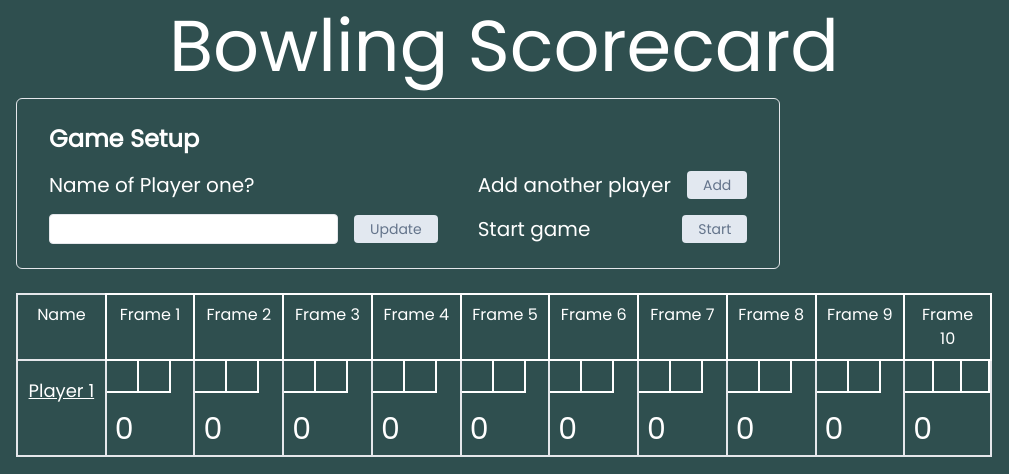
Scenario: Single player tests › Bowl box score interactions only › a forward slash should show in the UI to represent a spare
The width and height of the screenshot is (1009, 474).
Click the button with test id "start-game-btn" at point(715, 229), box [682,215,747,243]
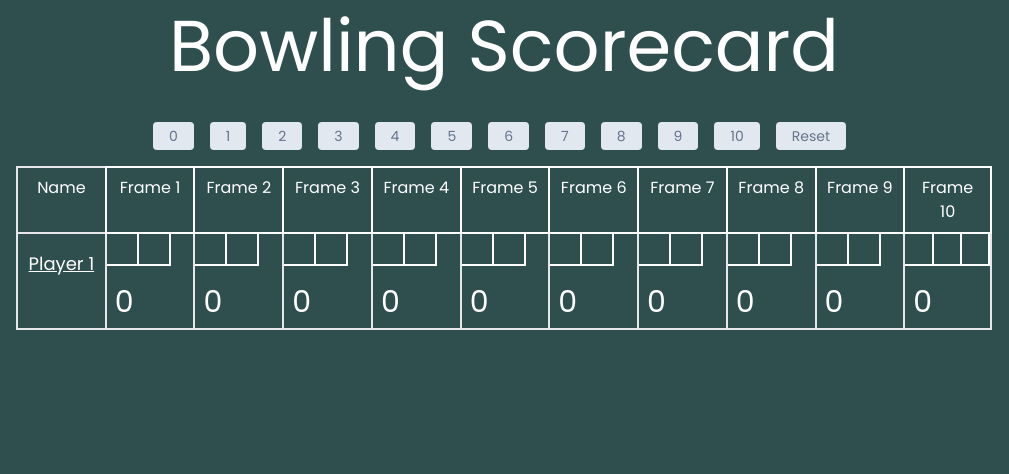
Click the button with test id "button-6" at point(509, 136), box [488,122,529,150]
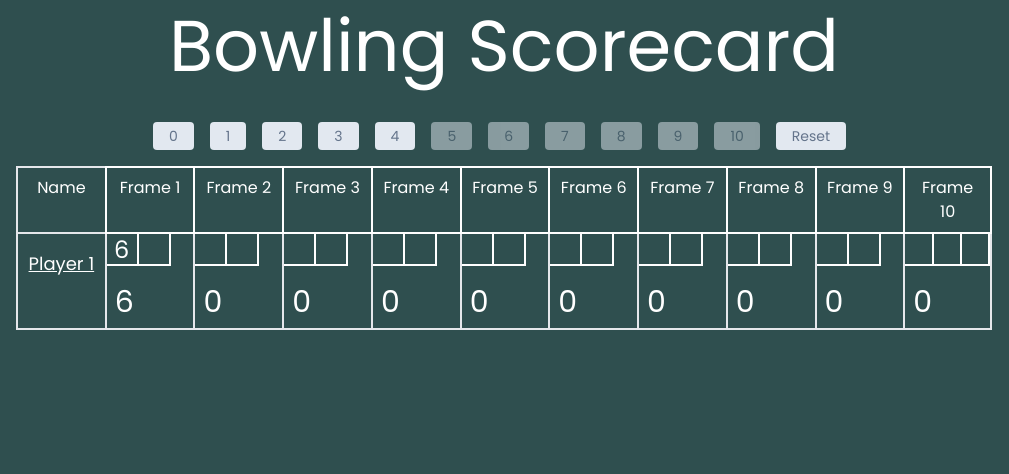
Expected: the text with test id "player-1-frame-1-first-bowl" reads "6", [107,234,139,266]
Click the button with test id "button-4" at point(396, 136), box [375,122,416,150]
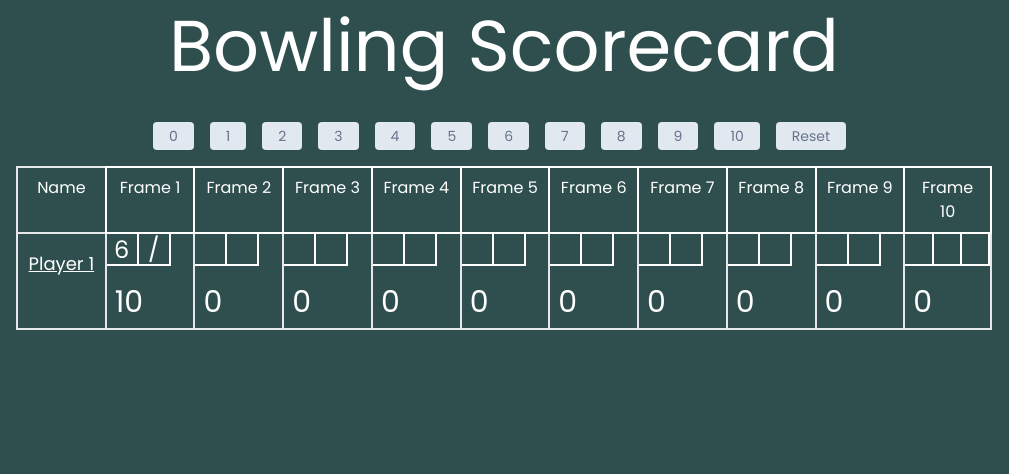
Expected: the text with test id "player-1-frame-1-second-bowl" reads "/", [139,234,171,266]
Click the button with test id "button-0" at point(174, 136), box [153,122,194,150]
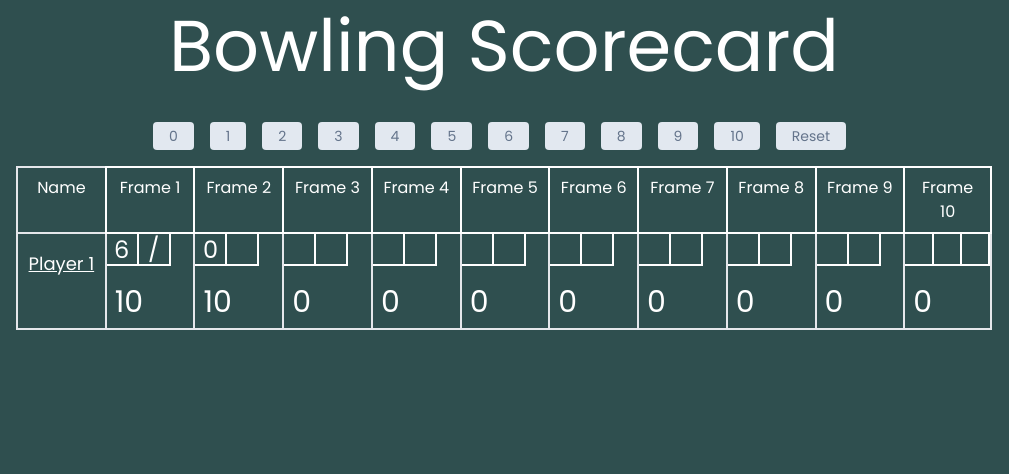
Expected: the text with test id "player-1-frame-2-first-bowl" reads "0", [196,234,228,266]
Click the button with test id "button-10" at point(737, 136), box [714,122,759,150]
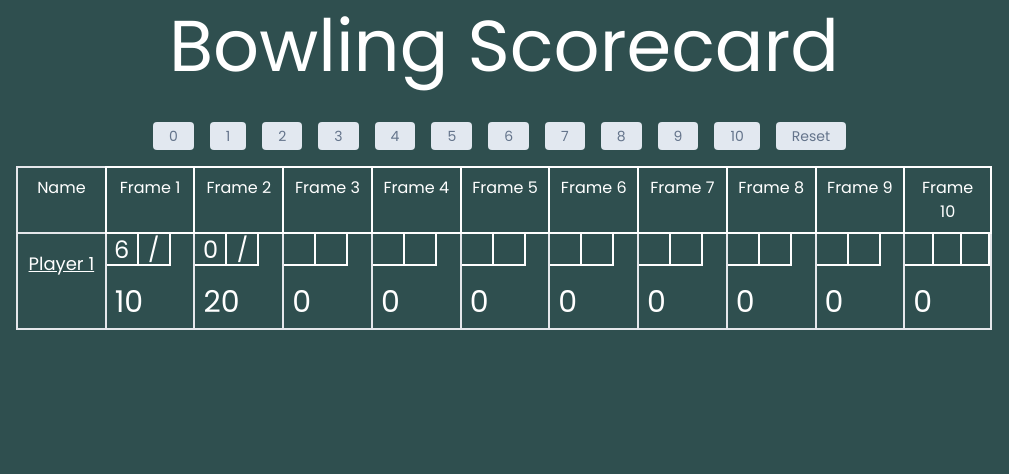
Expected: the text with test id "player-1-frame-2-second-bowl" reads "/", [228,234,260,266]
